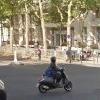Motorcycle: (31, 59, 74, 94)
